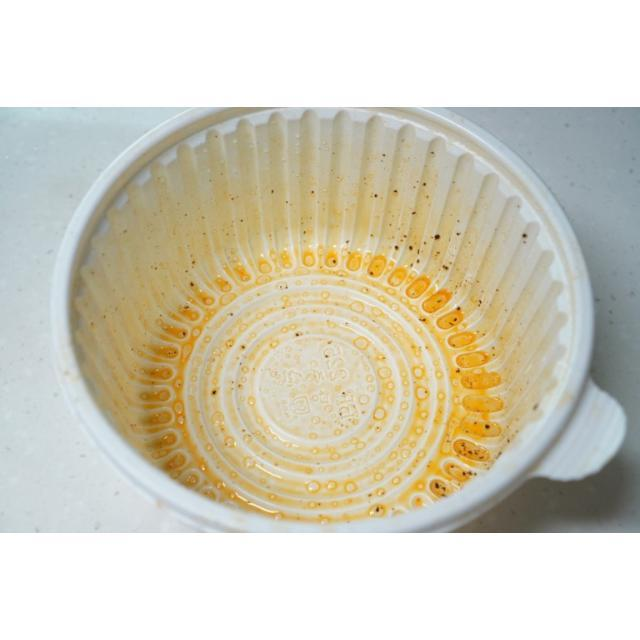Recipiente plastico: (51, 109, 625, 531), (0, 0, 640, 106)
